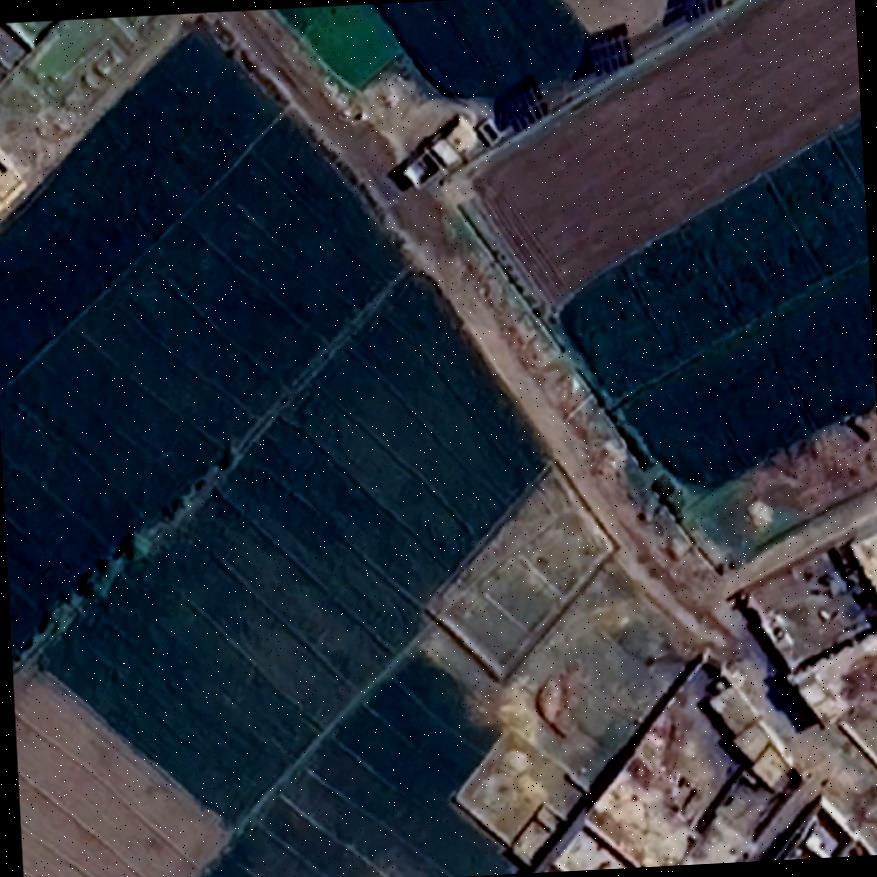Solarpanel: (484, 70, 555, 140), (566, 18, 638, 86), (655, 0, 730, 31)
